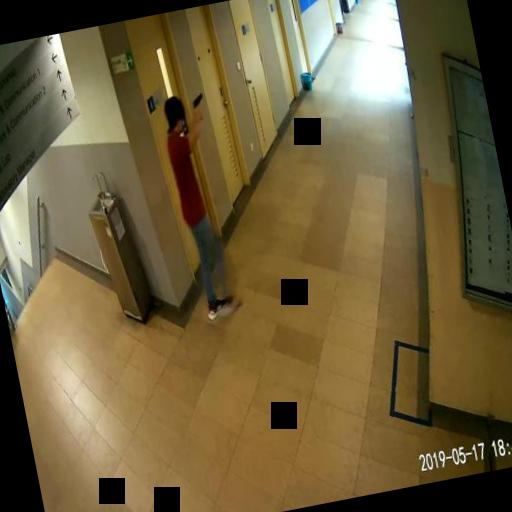Handgun: (190, 90, 206, 120)
